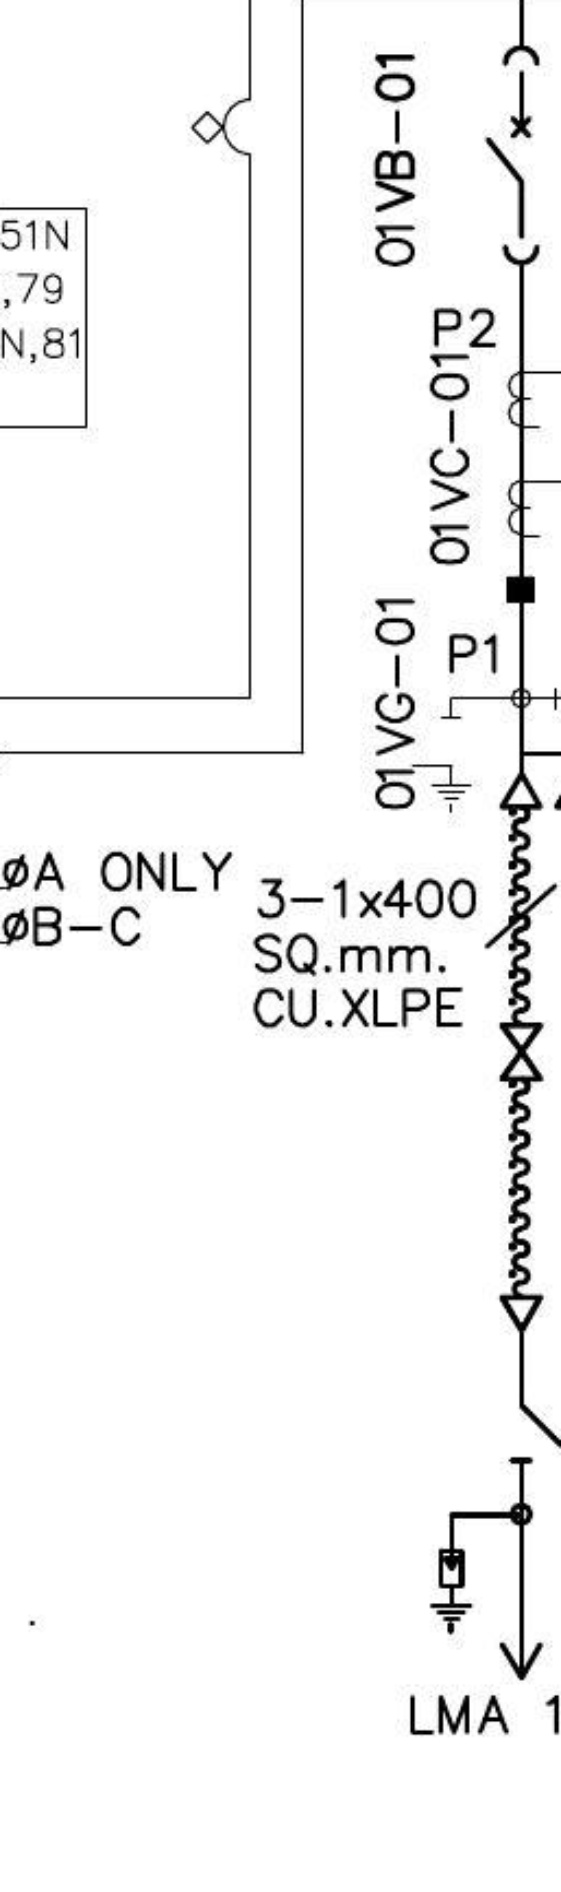22_breaker: (484, 43, 543, 268)
22_gs: (410, 713, 475, 813)
terminator_single: (497, 1292, 547, 1332)
terminator_splicing_kits: (498, 1021, 544, 1082)
